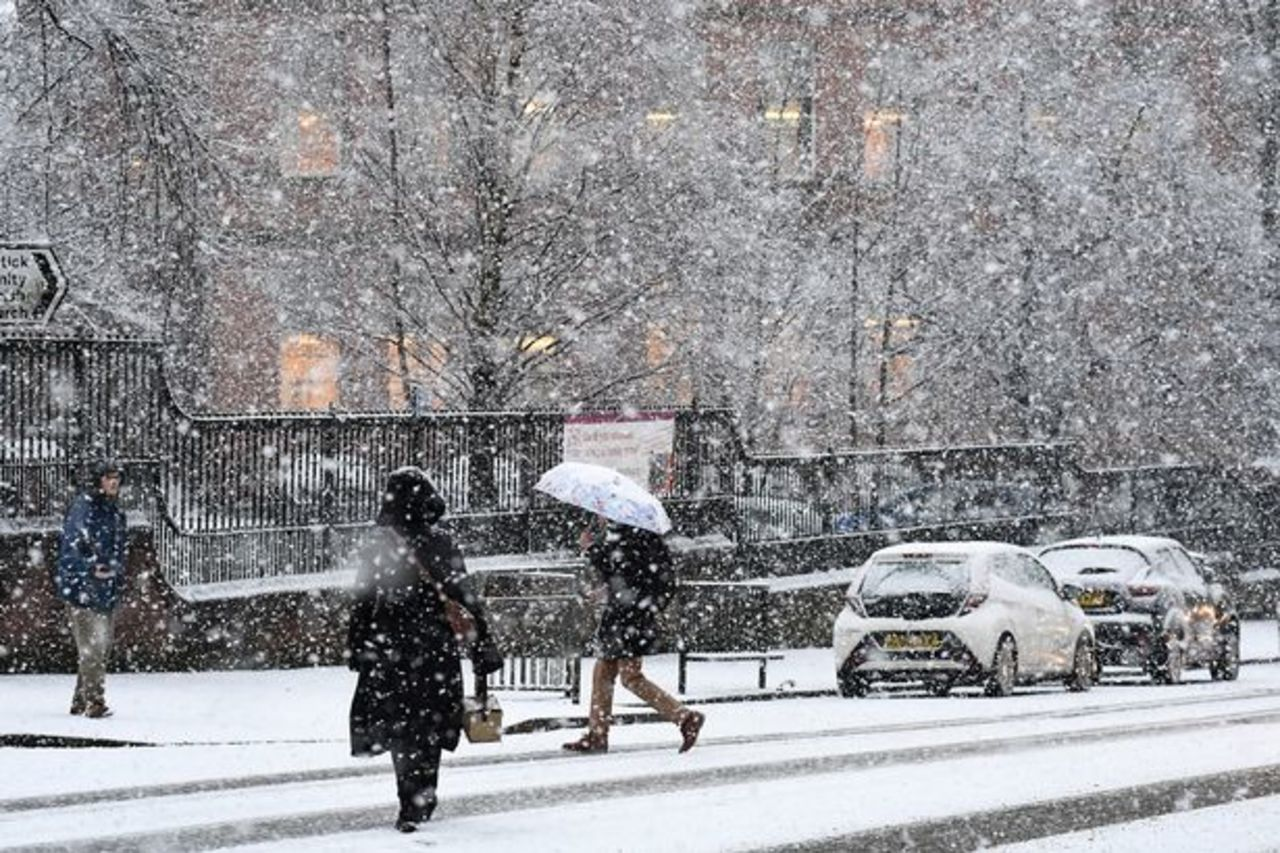car: (832, 540, 1100, 700), (1033, 534, 1241, 682)
person: (338, 462, 488, 841), (558, 518, 707, 751), (62, 465, 131, 720)
